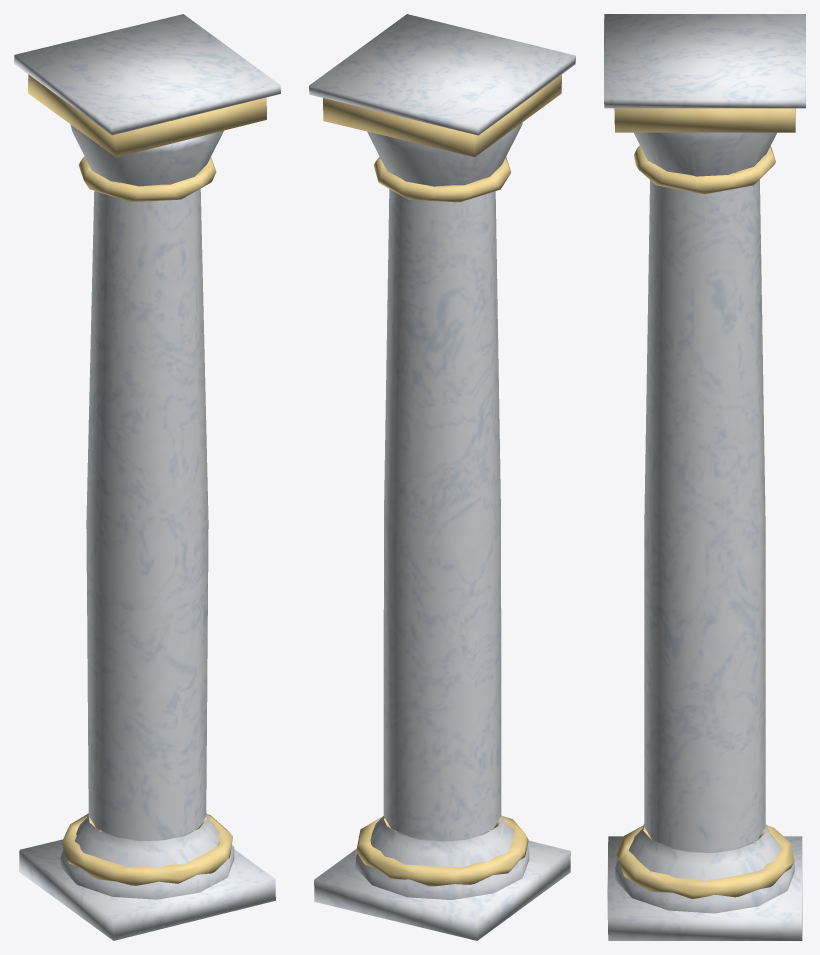
File: temple_column_lod1.gltf
The picture shows the model from 3 angles, left to right: view 1: azimuth 30°, elevation 25°; view 2: azimuth 150°, elevation 25°; view 3: azimuth 270°, elevation 25°; orthographic projection. The views are drawn at different scales.
Visible parts, largest first — view 1: temple_column_LOD1; view 2: temple_column_LOD1; view 3: temple_column_LOD1.
Part boxes in pixels (x1,y1,x2,y2): temple_column_LOD1: (14, 14, 280, 940); temple_column_LOD1: (309, 14, 575, 940); temple_column_LOD1: (604, 14, 805, 940).
Bounding box in the file's own units: 0.9808 × 4.52 × 0.98.
Materials: 1 (1 with a texture image).
